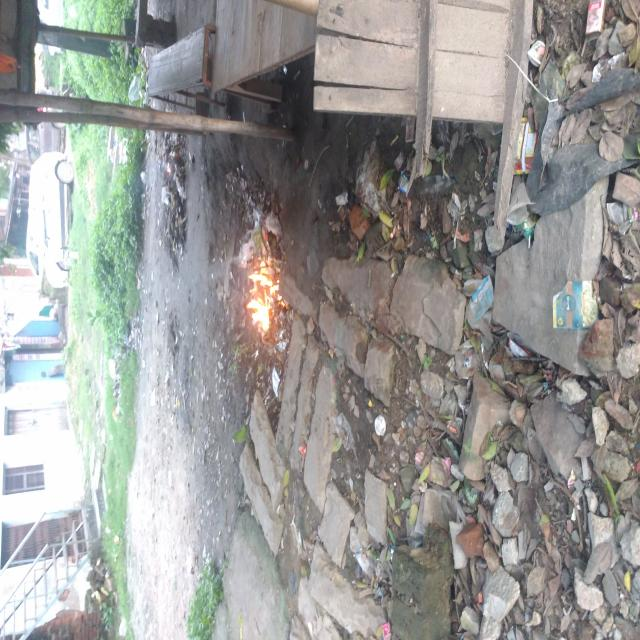Fire: (224, 329, 289, 387)
